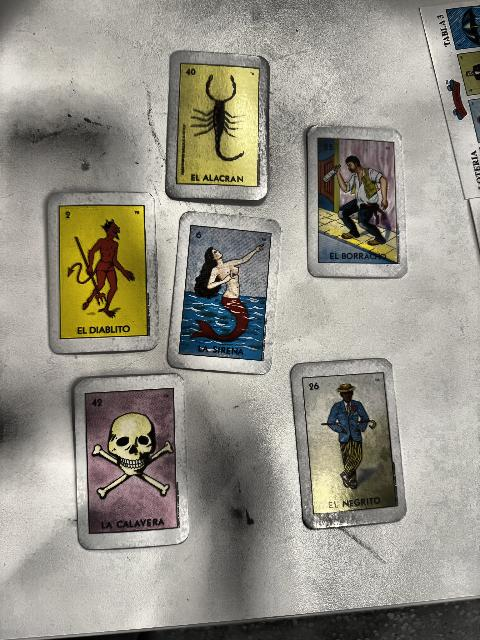El Alacran: (177, 63, 259, 187)
El Borracho: (318, 138, 397, 262)
El Diablito: (59, 206, 148, 337)
El Negrito: (302, 372, 397, 515)
La Calavera: (87, 389, 176, 532)
La Sirena: (179, 225, 271, 362)
